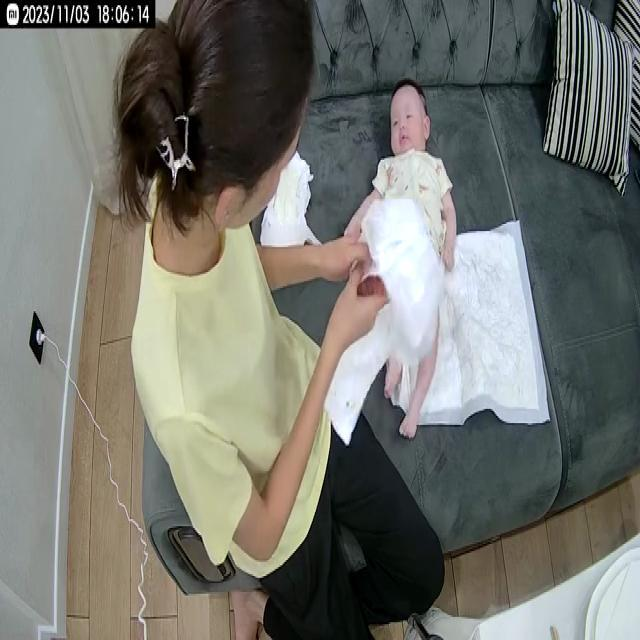baby: (345, 82, 468, 438)
